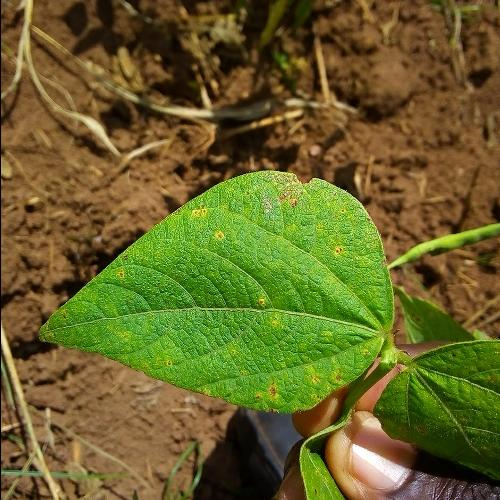hawar: (104, 164, 364, 384)
